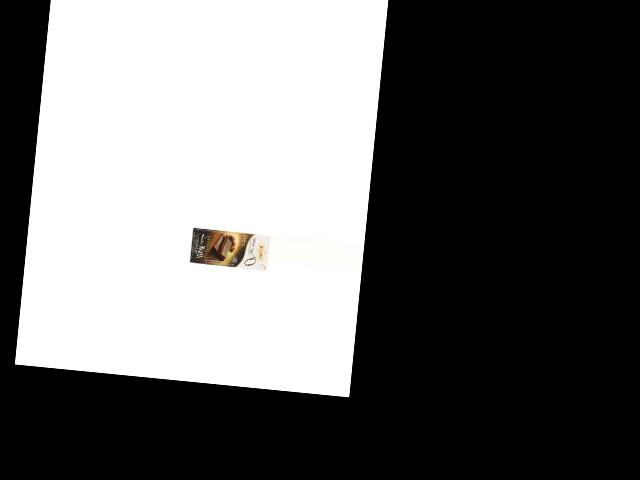chocolate: (188, 226, 270, 272)
